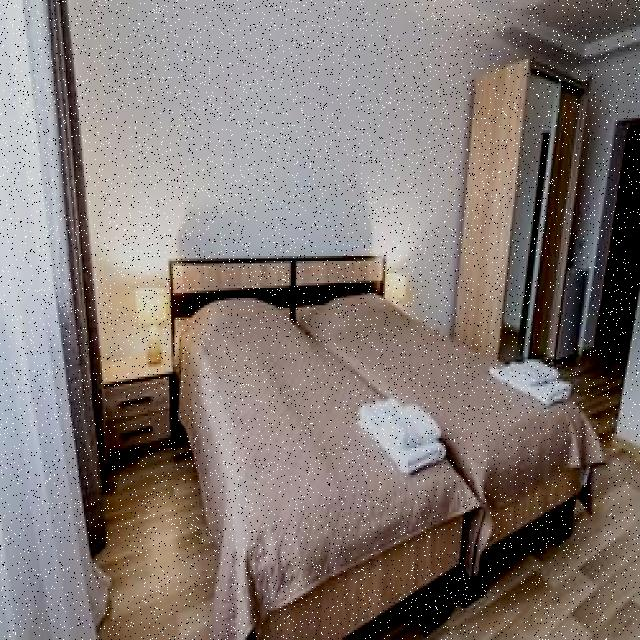bed: (168, 248, 596, 618)
